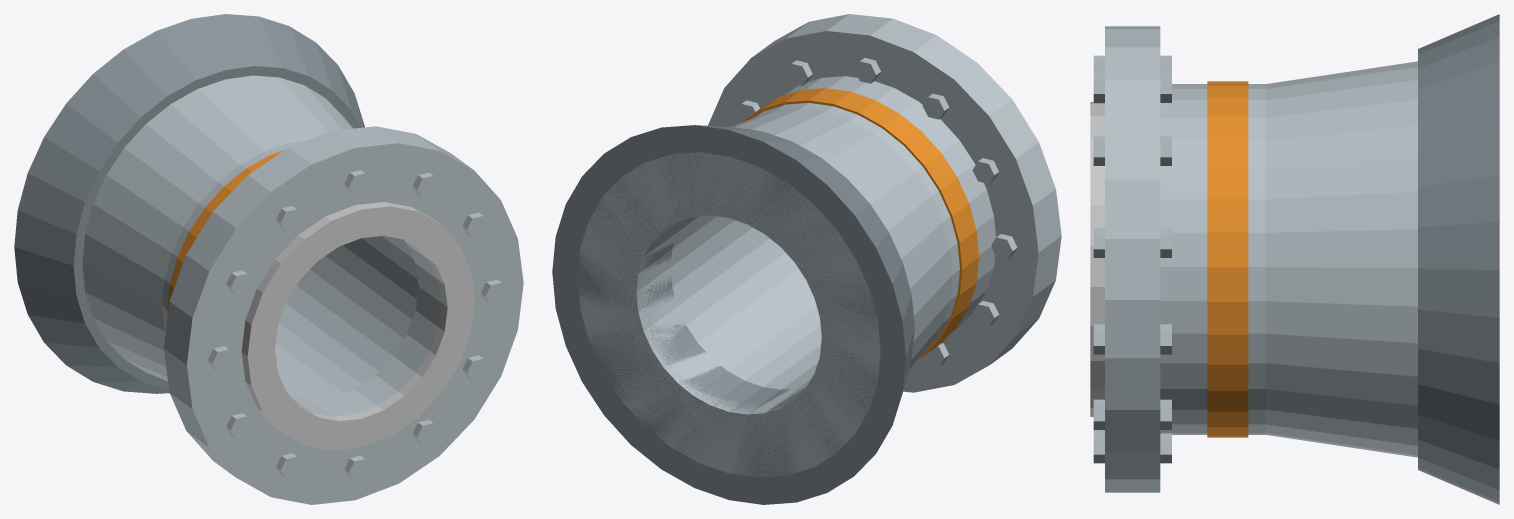
The model's file is body.obj.
3 renders of one model, left to right at view 1: azimuth 30°, elevation 25°; view 2: azimuth 150°, elevation 25°; view 3: azimuth 270°, elevation 25°, orthographic. The views are drawn at different scales.
Bounding box in the file's own units: 0.84 × 0.84 × 0.7.
